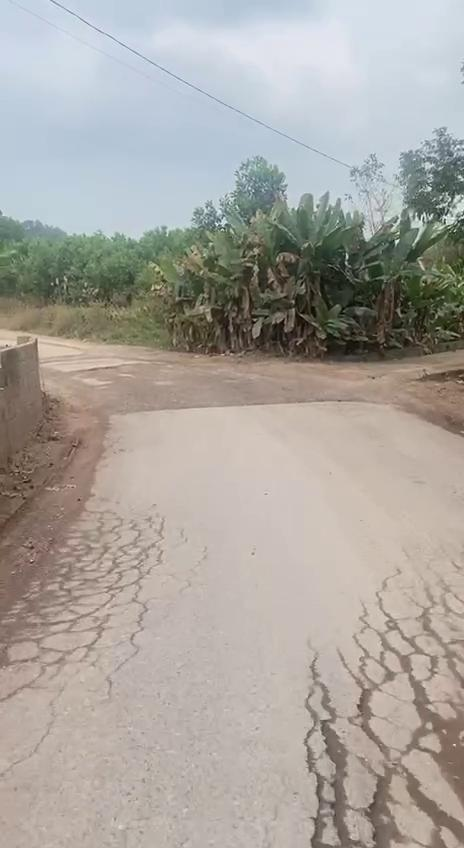pothole: (298, 610, 464, 848)
